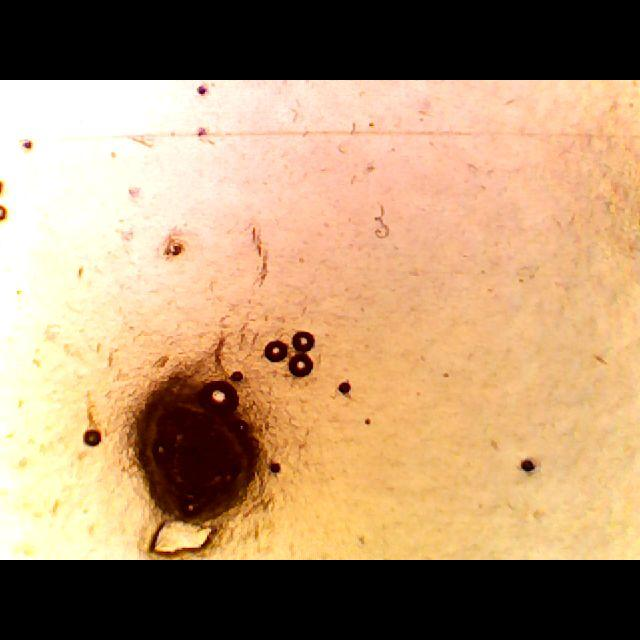microbeads: (127, 366, 266, 526)
